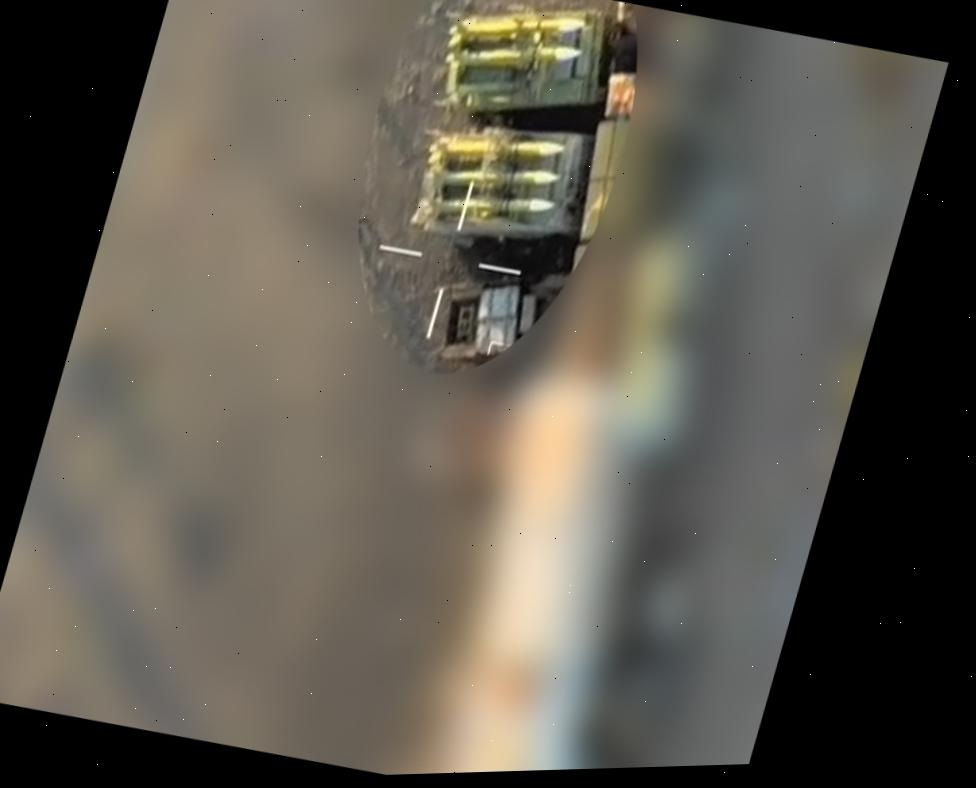armored_car: (392, 108, 608, 271), (415, 0, 639, 144)
